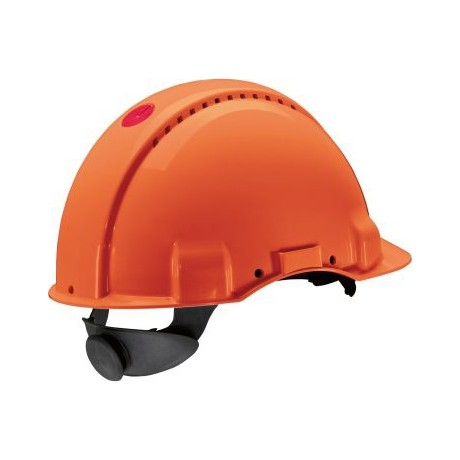baret: (43, 73, 417, 383)
